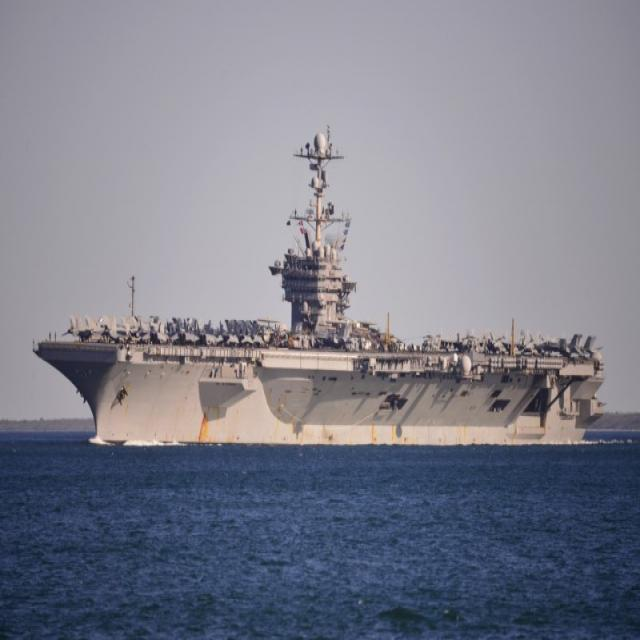Portanaves: (30, 122, 611, 452)
